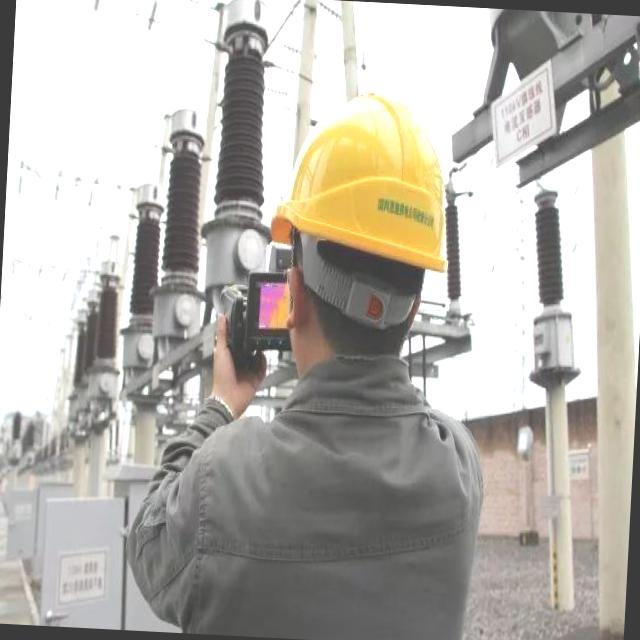helmet: (284, 92, 457, 270)
no-vest: (180, 368, 492, 634)
